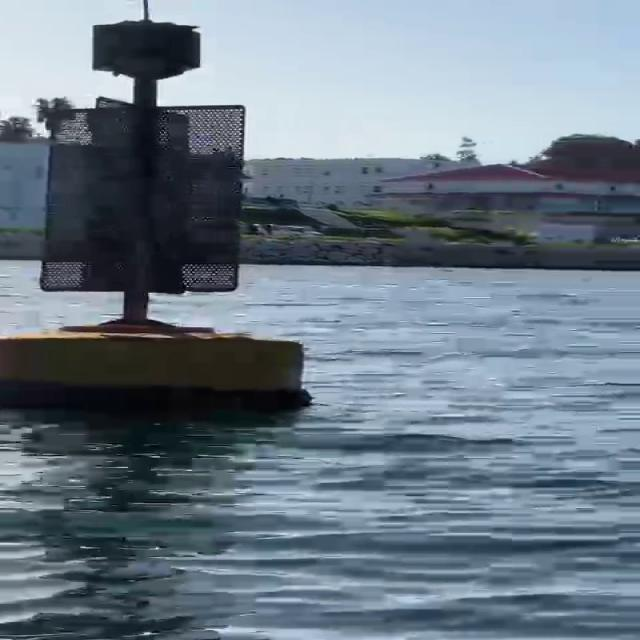marque: (1, 1, 341, 421)
